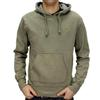abbigliamento_uomo: (13, 3, 88, 97)
